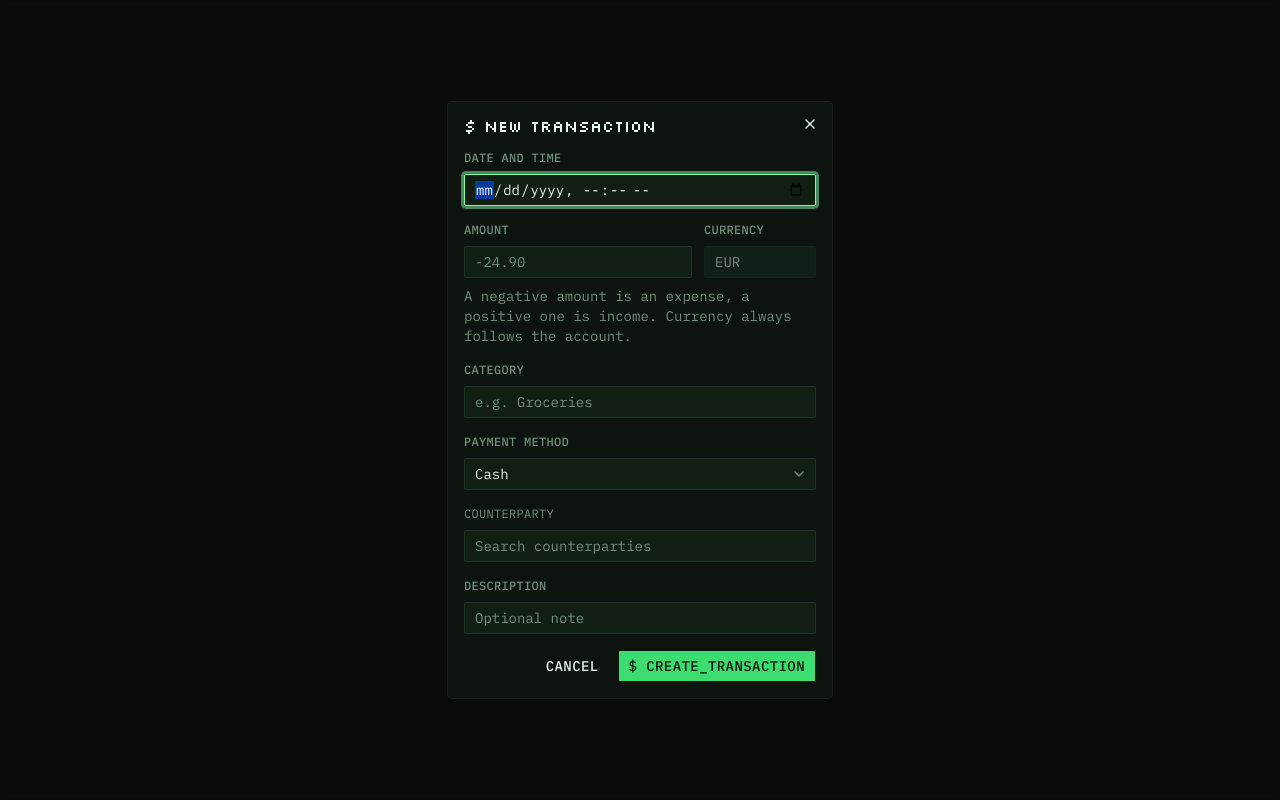
Scenario: <TransactionFormModal /> › shows a missing_counterparty backend error on the counterparty field, not a toast
Type "2026-03-04T09:15" into the field labelled "Date and time". click: (640, 190)
box: [464,174,816,206]
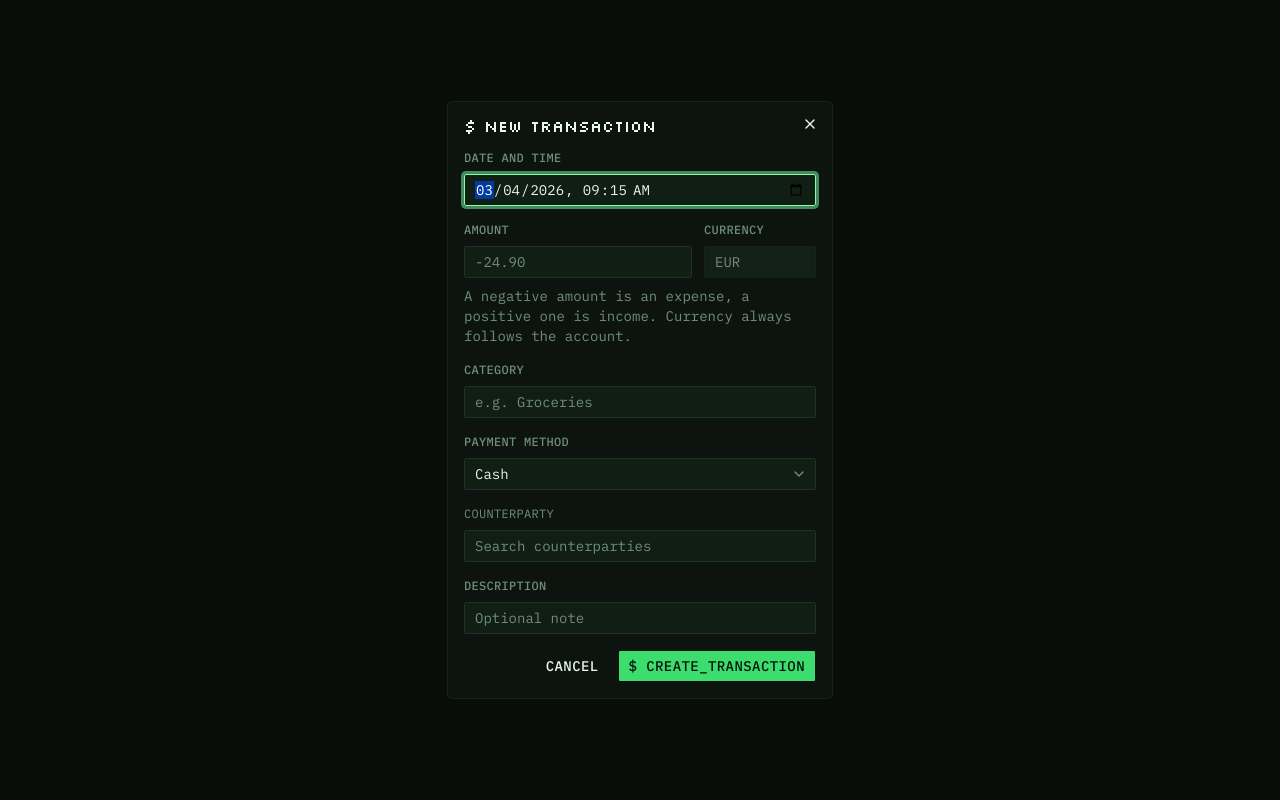
Type "-45.20" into the field labelled "Amount". click: (578, 262)
box: [464,246,692,278]
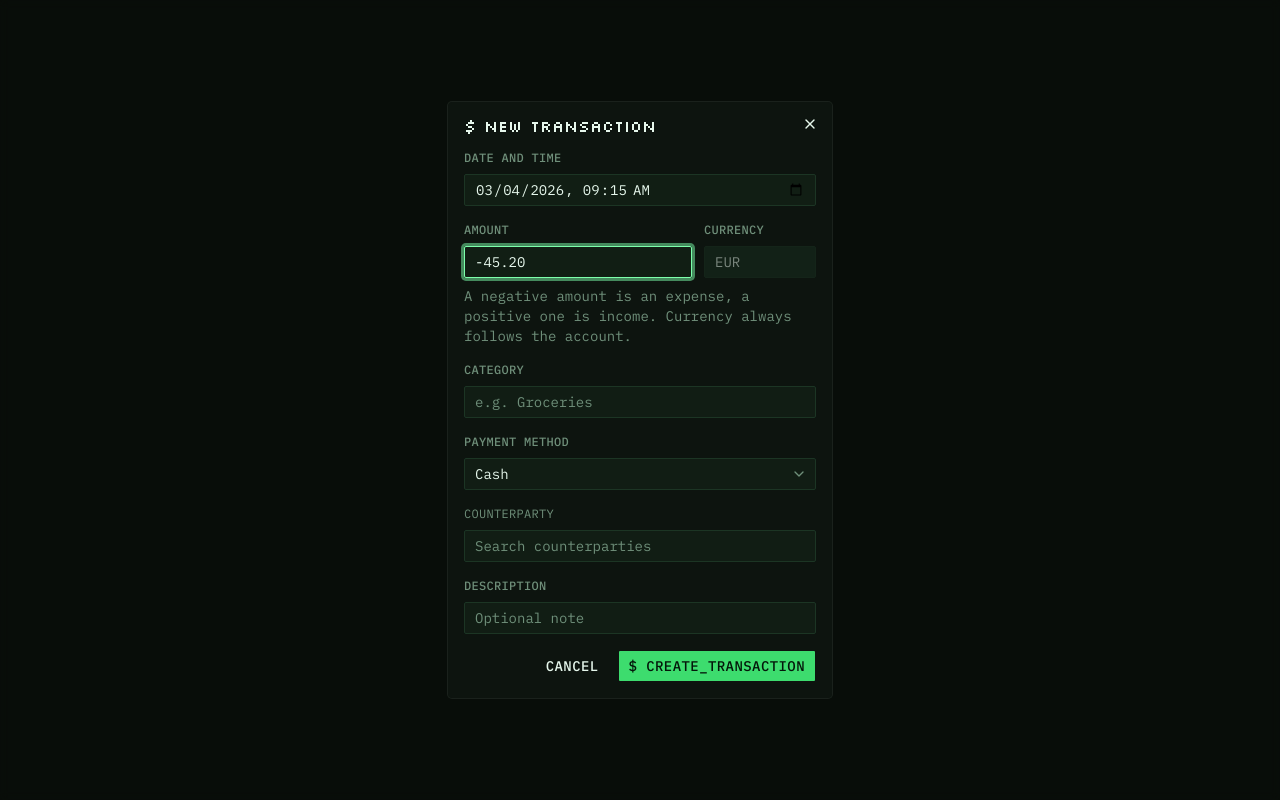
Type "Groceries" into the field labelled "Category". click: (640, 402)
box: [464,386,816,418]
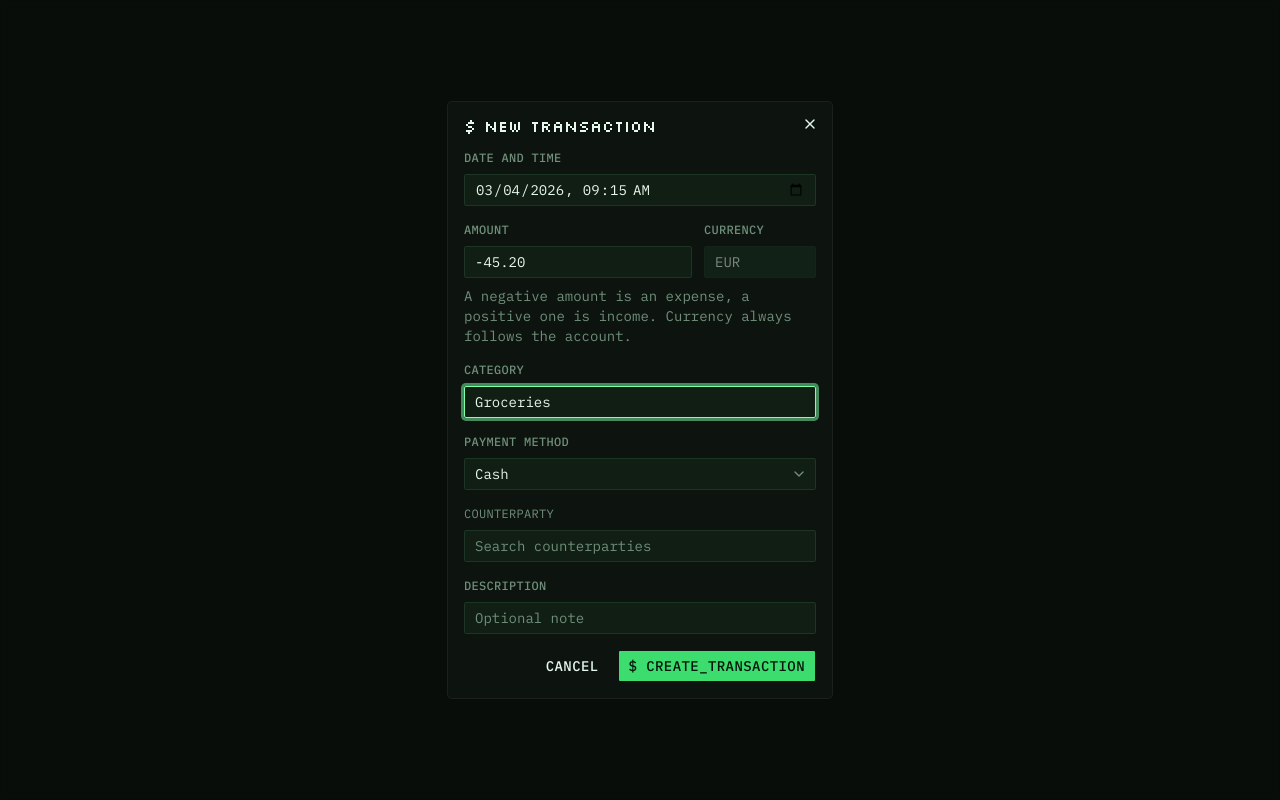
Type "Corner" into the field labelled "Search counterparties". click: (640, 546)
box: [464,530,816,562]
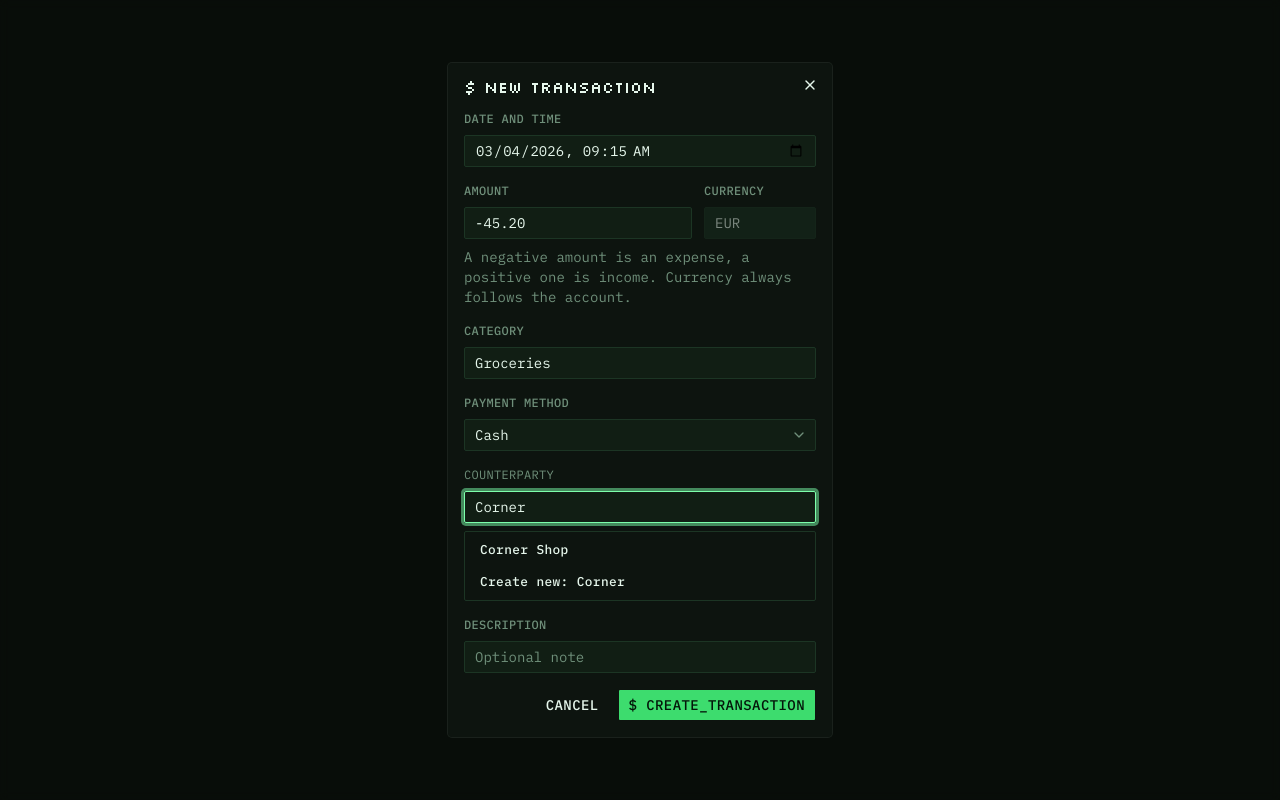
Click the button "Corner Shop". click: (524, 549)
box: [469,536,811,564]
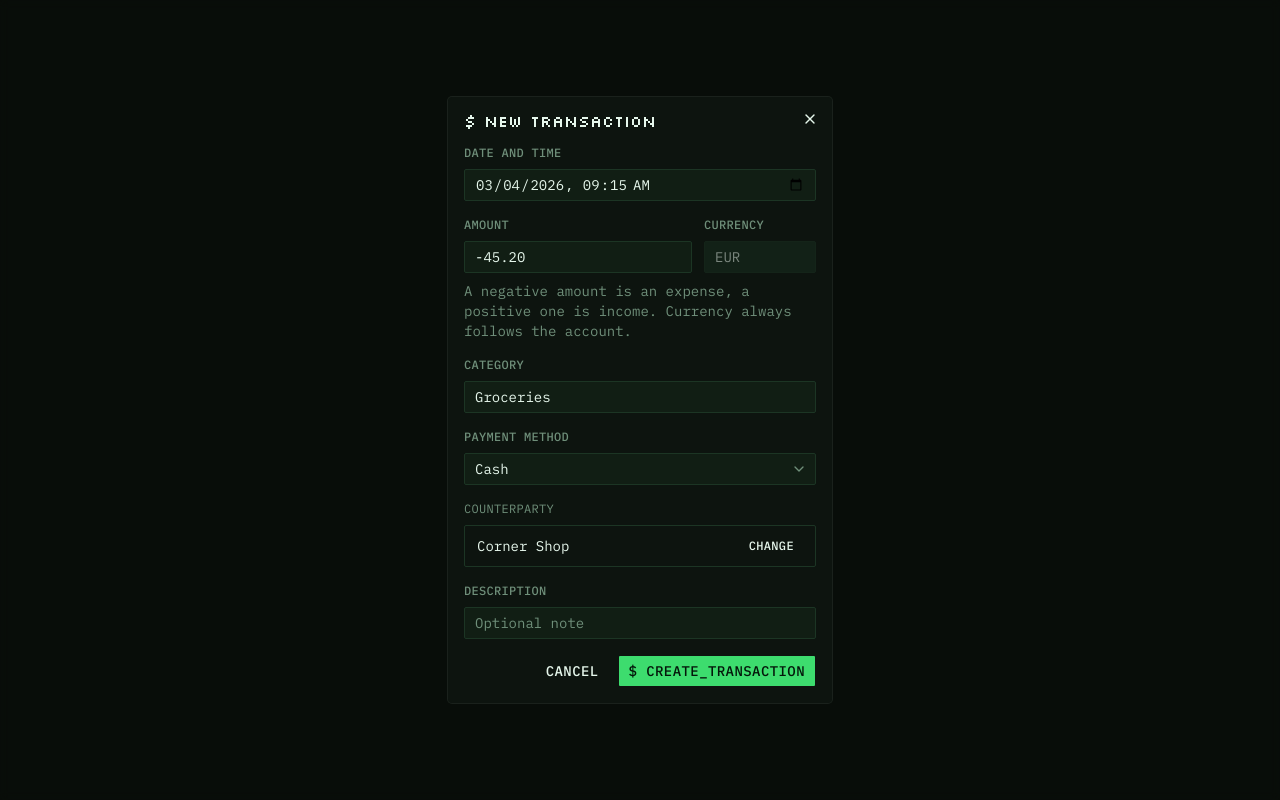
Click the button "$ CREATE_TRANSACTION". click: (717, 671)
box: [618,655,816,687]
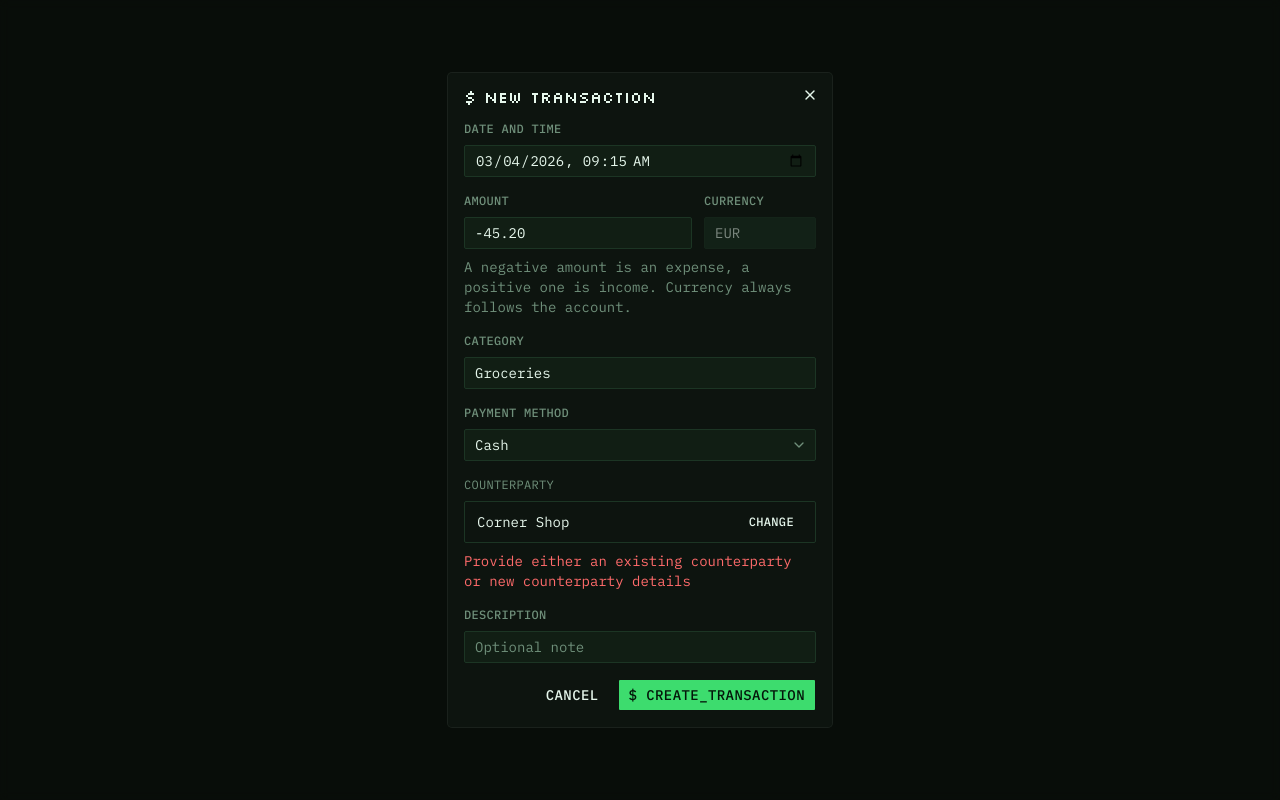
Expected: the text "Provide either an existing counterparty or new counterparty details" is shown, [464,551,816,591]
